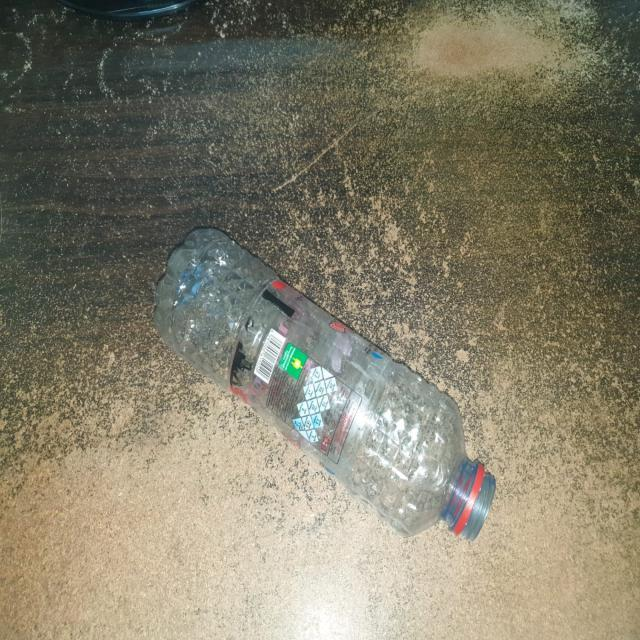chai: (156, 228, 495, 539)
